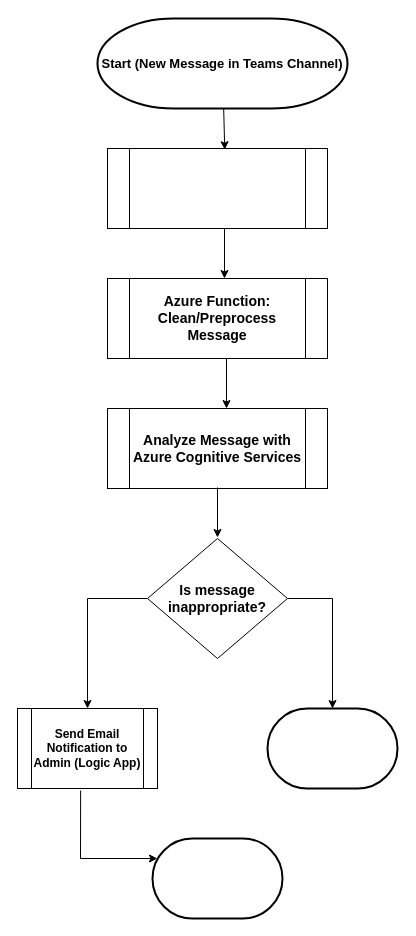
The diagram is 416 pixels wide and 936 high, and some of its shapes have lost their labels. The shapes that lost their labels are listed below. From the top down, each one's centre as x and y in pixels, then its label:
(x=217, y=188): Trigger: New Message in Teams (Logic App)
(x=332, y=748): End (No Action Needed)
(x=217, y=878): End (Alert Sent)
